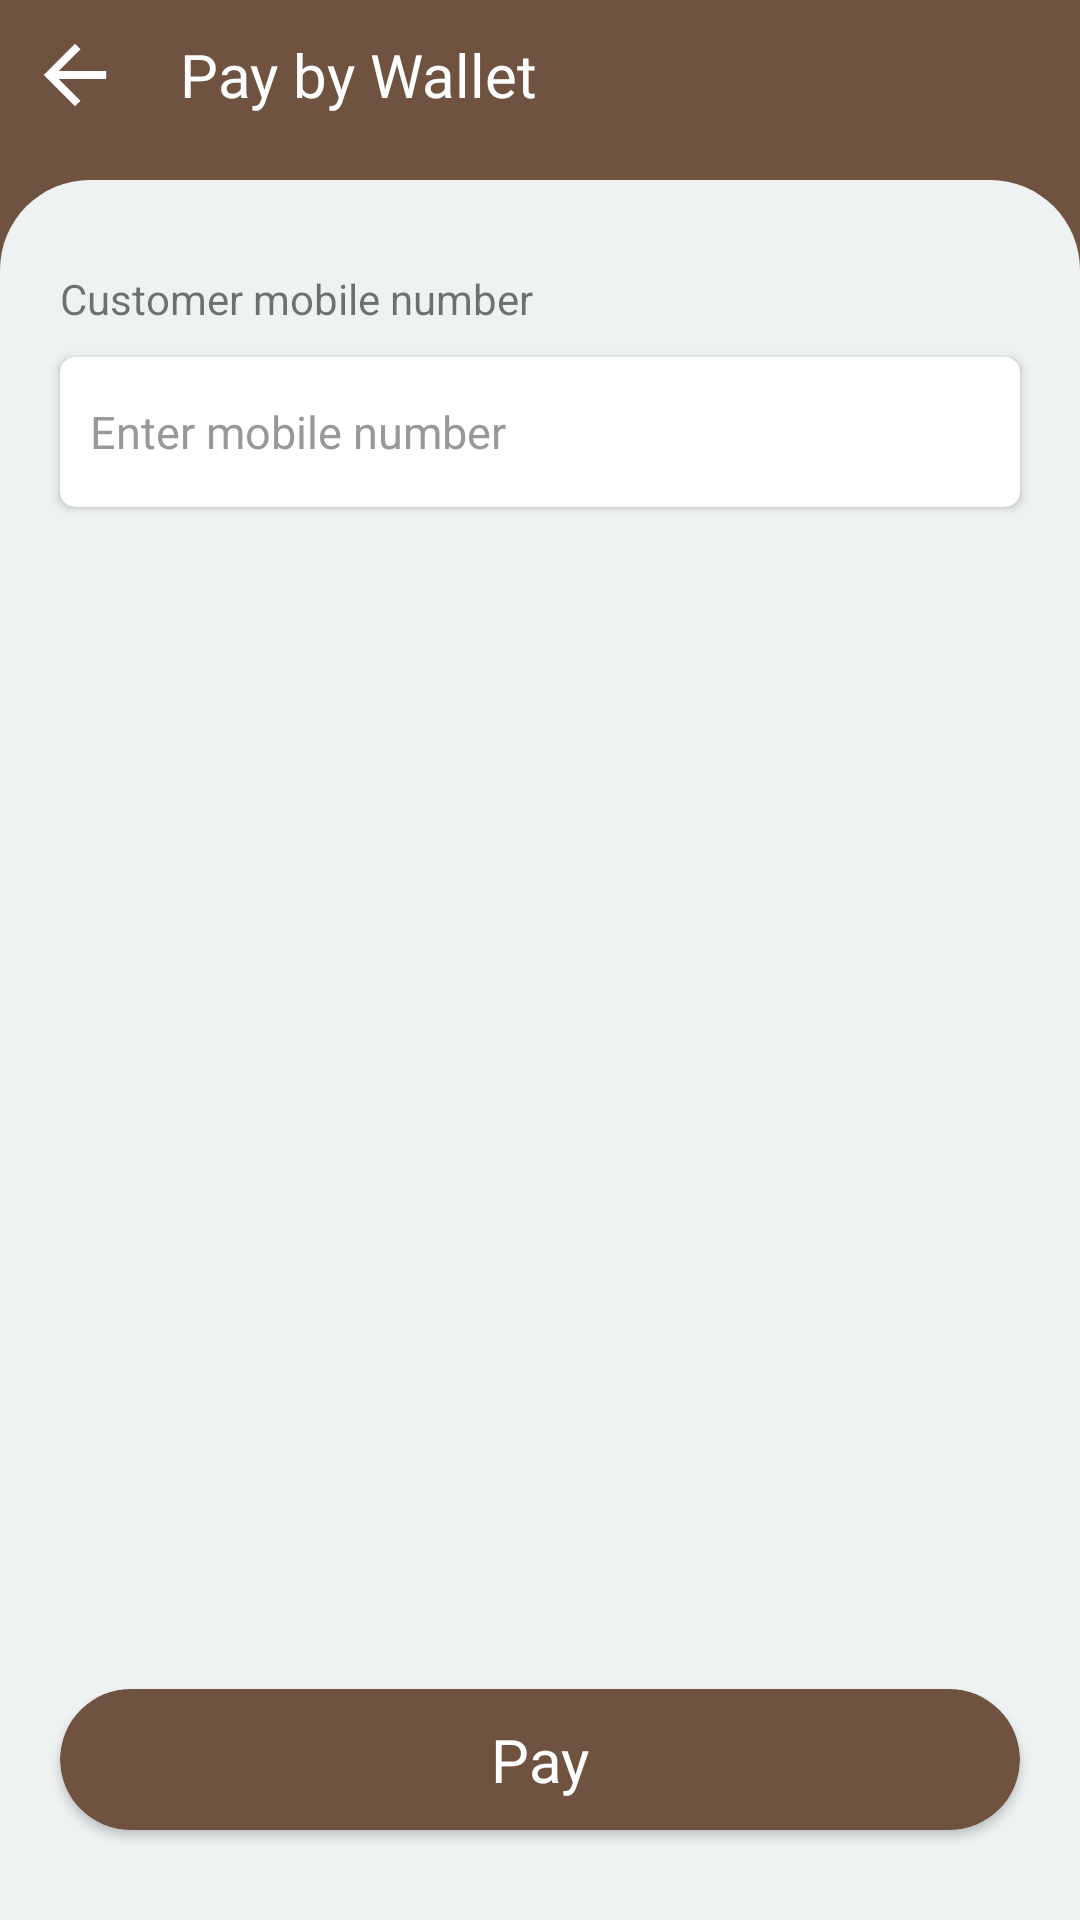

Icon bounding boxes for this 1080x1920 phone screenshot, format (x1=x1, y1=y1, x2=x2, y2=y2):
back: (x1=44, y1=44, x2=107, y2=106)
